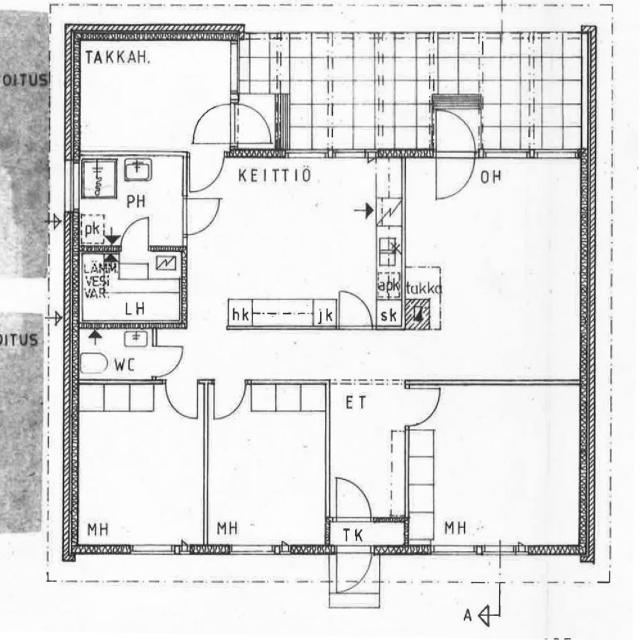door: (332, 473, 374, 523), (232, 98, 274, 145), (180, 193, 224, 237), (191, 101, 233, 146), (184, 151, 226, 196), (334, 544, 374, 591), (208, 380, 248, 422), (120, 213, 154, 257), (163, 386, 200, 423), (151, 342, 188, 378)
window: (61, 157, 81, 215), (528, 146, 582, 163), (482, 146, 534, 163), (128, 542, 179, 558), (228, 543, 277, 559), (40, 399, 51, 428), (41, 443, 51, 468)
zone: (412, 143, 590, 389), (188, 155, 386, 316), (406, 382, 586, 555), (72, 381, 206, 555), (206, 383, 328, 554), (70, 31, 234, 152), (328, 380, 408, 518), (74, 152, 188, 248), (78, 252, 185, 326), (75, 327, 159, 382), (432, 105, 477, 203), (404, 380, 444, 428), (336, 286, 376, 332)
